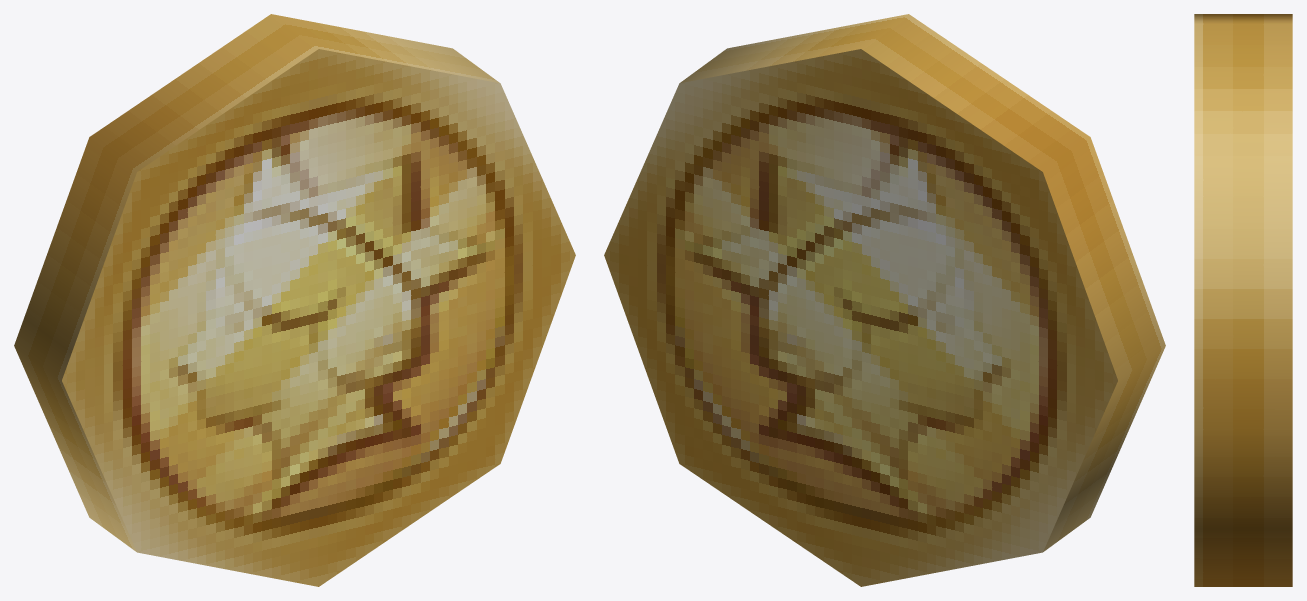
File: JinBi.FBX
3 views of the same model, side by side, from view 1: azimuth 30°, elevation 25°; view 2: azimuth 150°, elevation 25°; view 3: azimuth 270°, elevation 25° (orthographic). The views are drawn at different scales.
Visible parts, largest first — view 1: JinBi; view 2: JinBi; view 3: JinBi.
Part boxes in pixels (box(x1,y1,x2,y2)): JinBi: box(14, 14, 575, 586); JinBi: box(604, 14, 1165, 586); JinBi: box(1194, 14, 1292, 586).
Bounding box in the file's own units: 9.11 × 9.11 × 1.47.
